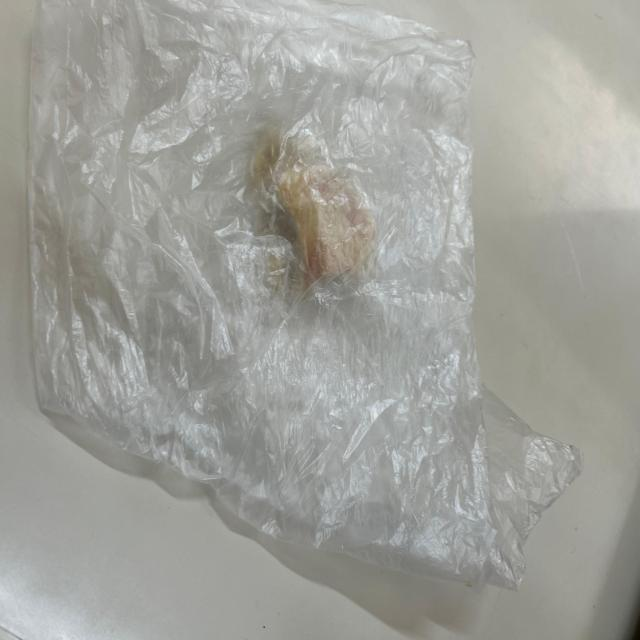inorganic: (29, 2, 587, 593)
